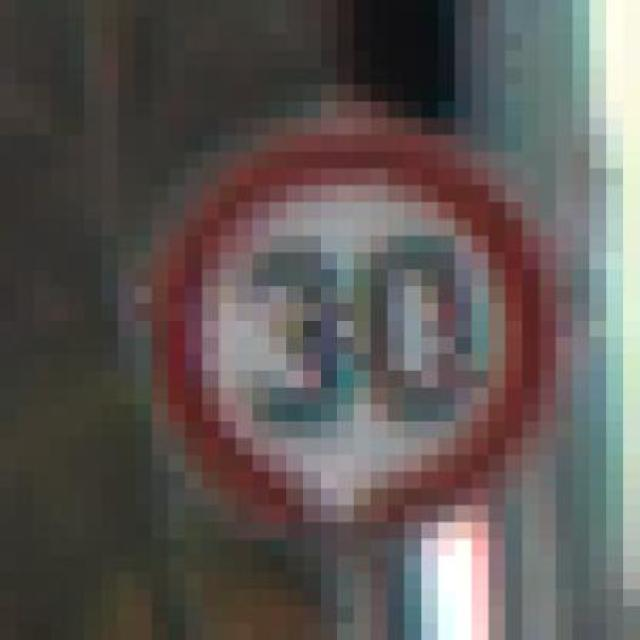Speed Limit 30 KMPh: (135, 67, 590, 573)
